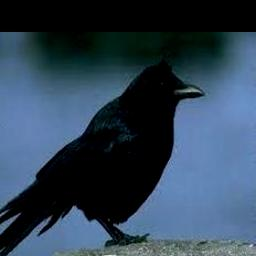Crow: (0, 61, 204, 256)
